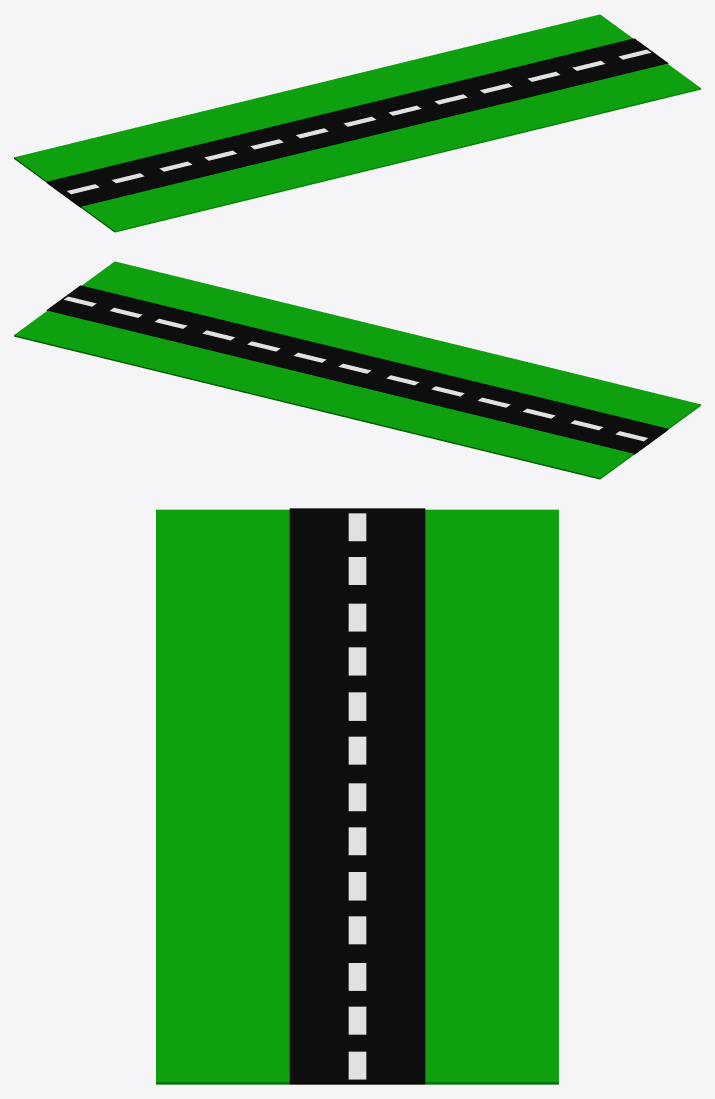
Rendered from road.obj.
3 views of the same model, one above another, from view 1: azimuth 30°, elevation 25°; view 2: azimuth 150°, elevation 25°; view 3: azimuth 270°, elevation 25° (orthographic). The views are drawn at different scales.
Parts seen in each view (by area): view 1: Cube.026, Cube.013, Cube.027, Cube.014, Cube.025, Cube.028; view 2: Cube.013, Cube.027, Cube.026, Cube.028, Cube.014, Cube.025; view 3: Cube.013, Cube.026, Cube.027, Cube.028, Cube.025, Cube.014.
Part boxes in pixels (x1,y1,x2,y2): Cube.026: (14, 104, 330, 232); Cube.013: (232, 59, 516, 187); Cube.027: (383, 14, 700, 134); Cube.014: (231, 83, 483, 161); Cube.025: (46, 137, 298, 207); Cube.028: (449, 38, 668, 116); Cube.013: (198, 306, 516, 434); Cube.027: (14, 261, 331, 389); Cube.026: (416, 359, 700, 479); Cube.028: (46, 285, 298, 363); Cube.014: (231, 330, 483, 408); Cube.025: (415, 384, 668, 454); Cube.013: (156, 689, 558, 902); Cube.026: (156, 509, 558, 722); Cube.027: (156, 902, 558, 1084); Cube.028: (289, 867, 425, 1084); Cube.025: (289, 508, 425, 722); Cube.014: (289, 688, 425, 901).
Bounding box in the file's own units: 128 × 0.4073 × 38.05.
